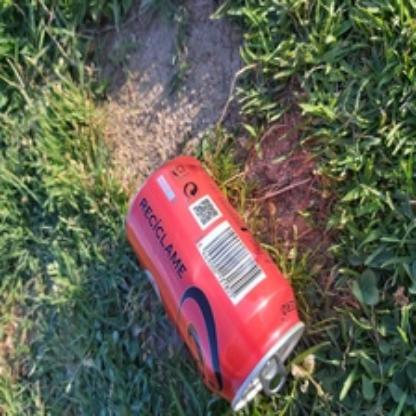Can: (123, 154, 305, 412)
